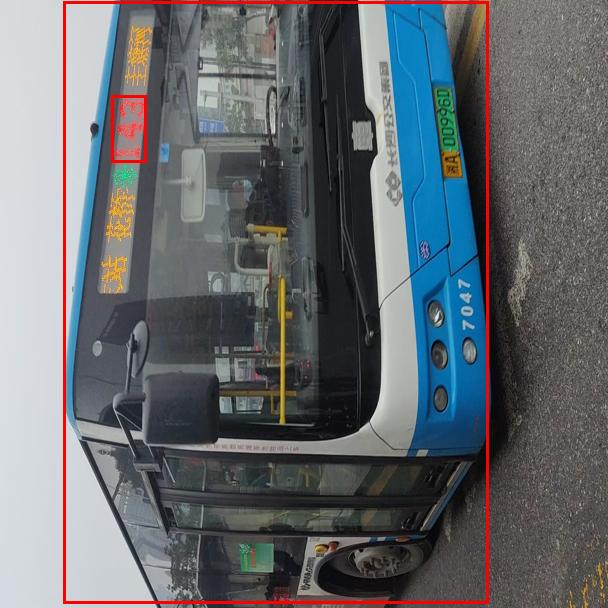bus: (63, 1, 488, 603)
screen: (111, 95, 146, 162)
